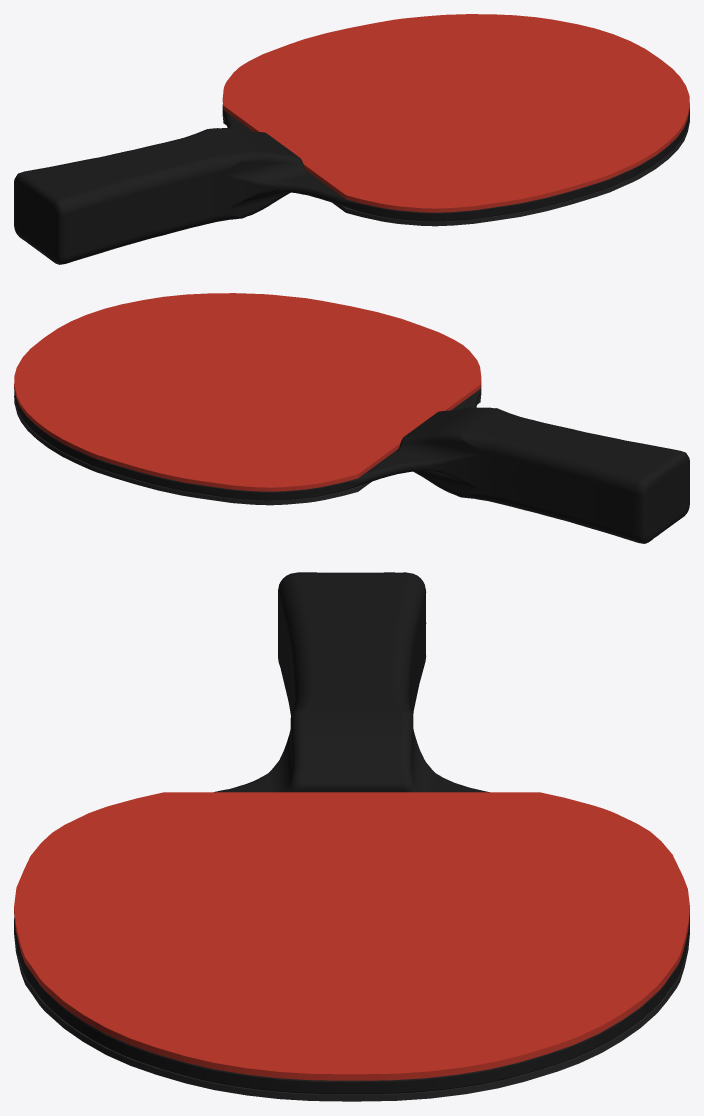
The model's file is paddle.glb.
The picture shows the model from 3 angles, top to bottom: view 1: azimuth 30°, elevation 25°; view 2: azimuth 150°, elevation 25°; view 3: azimuth 270°, elevation 25°; orthographic projection. The views are drawn at different scales.
Parts seen in each view (by area): view 1: anim_paddle_0_red_rubber, anim_paddle_2_carbon_blade, anim_paddle_1_black_rubber; view 2: anim_paddle_0_red_rubber, anim_paddle_2_carbon_blade, anim_paddle_1_black_rubber; view 3: anim_paddle_0_red_rubber, anim_paddle_2_carbon_blade, anim_paddle_1_black_rubber.
Part boxes in pixels (x1,y1,x2,y2): anim_paddle_0_red_rubber: [222, 14, 689, 212]; anim_paddle_2_carbon_blade: [14, 104, 689, 264]; anim_paddle_1_black_rubber: [222, 113, 689, 226]; anim_paddle_0_red_rubber: [14, 293, 481, 491]; anim_paddle_2_carbon_blade: [14, 382, 689, 543]; anim_paddle_1_black_rubber: [14, 392, 481, 505]; anim_paddle_0_red_rubber: [14, 792, 689, 1080]; anim_paddle_2_carbon_blade: [14, 572, 689, 1094]; anim_paddle_1_black_rubber: [14, 927, 689, 1101].
Bounding box in the file's own units: 0.281 × 0.028 × 0.1711.
